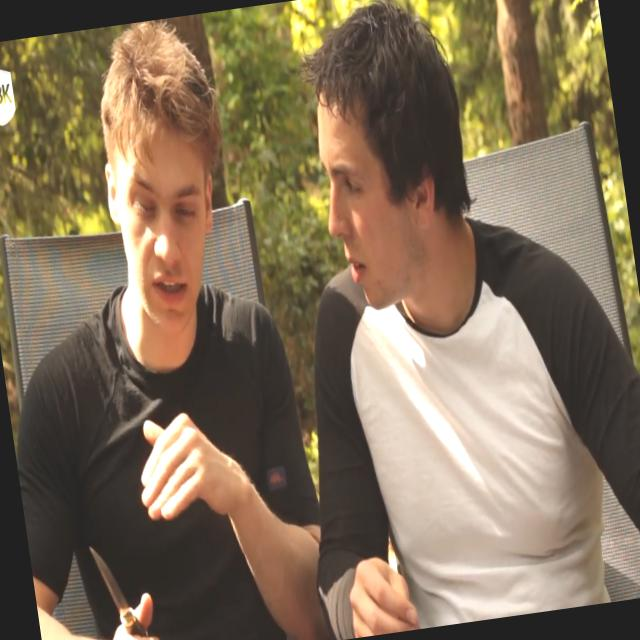knife: (79, 524, 175, 639)
